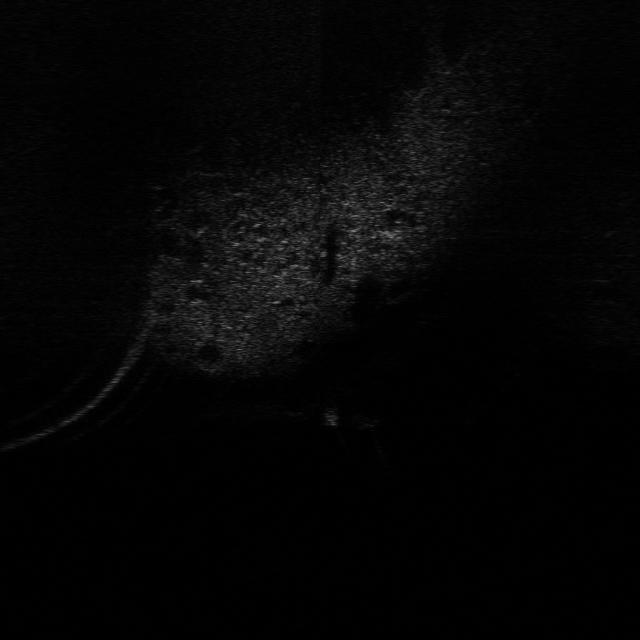cube: (350, 410, 386, 432)
cylinder: (317, 403, 341, 432)
